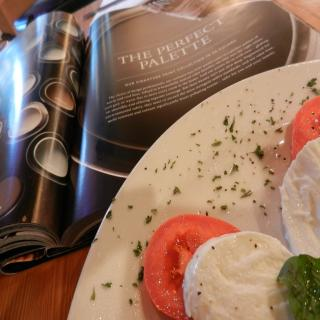tomato: (146, 223, 207, 310), (292, 91, 320, 162)
